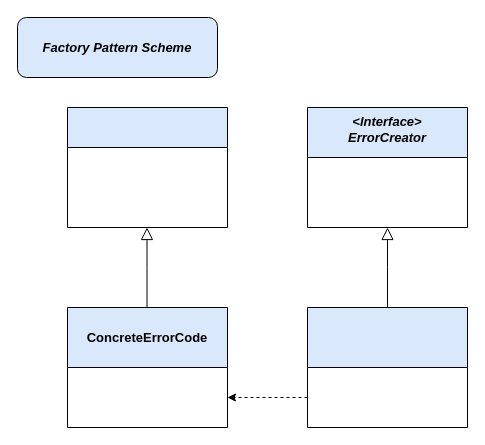
The diagram is 485 pixels wide and 445 high, and some of its shapes have lost their labels. Each missing label, with the centre of its shape:
ConcreteErrorCreator: the point at 387,367
ErrorCode: the point at 147,167
